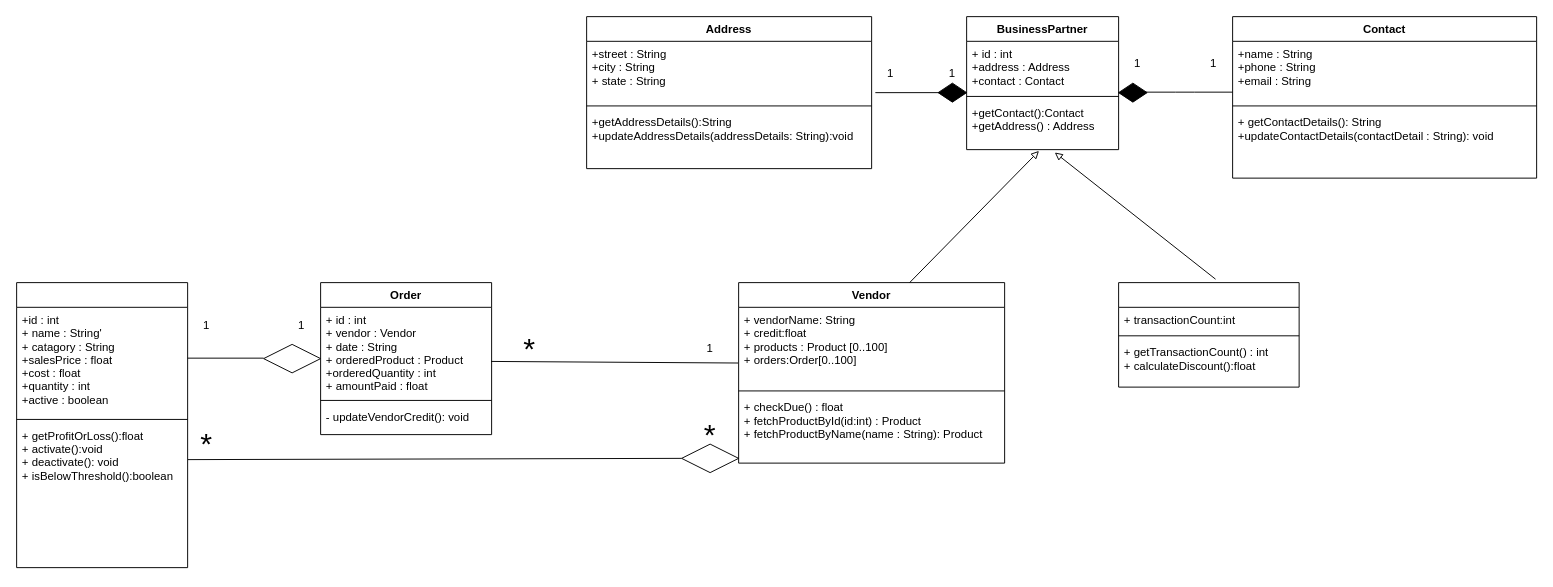
The diagram is 1553 pixels wide and 587 high, and some of its shapes have lost their labels. Here are the shapes that lost their labels. From the top down, the box of each, then its label:
(1118, 282, 1299, 387): Customer
(16, 282, 188, 568): Product
